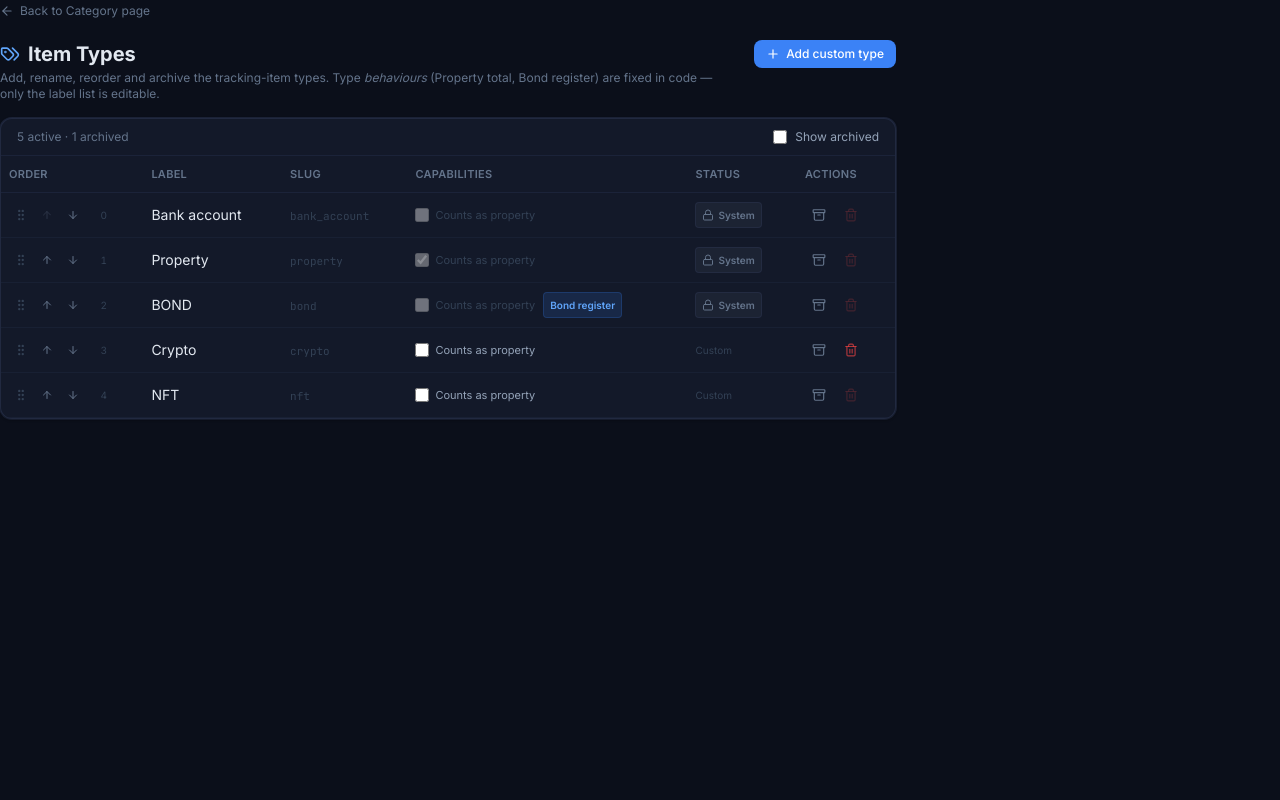
ItemTypesSettingsPage — add custom type › live-validates a duplicate label and blocks submit
Check: the button with aria-label "Edit label for Bank account" is shown, box [151,205,242,225]
Click the button "Add custom type": click(825, 54) [754,40,896,68]
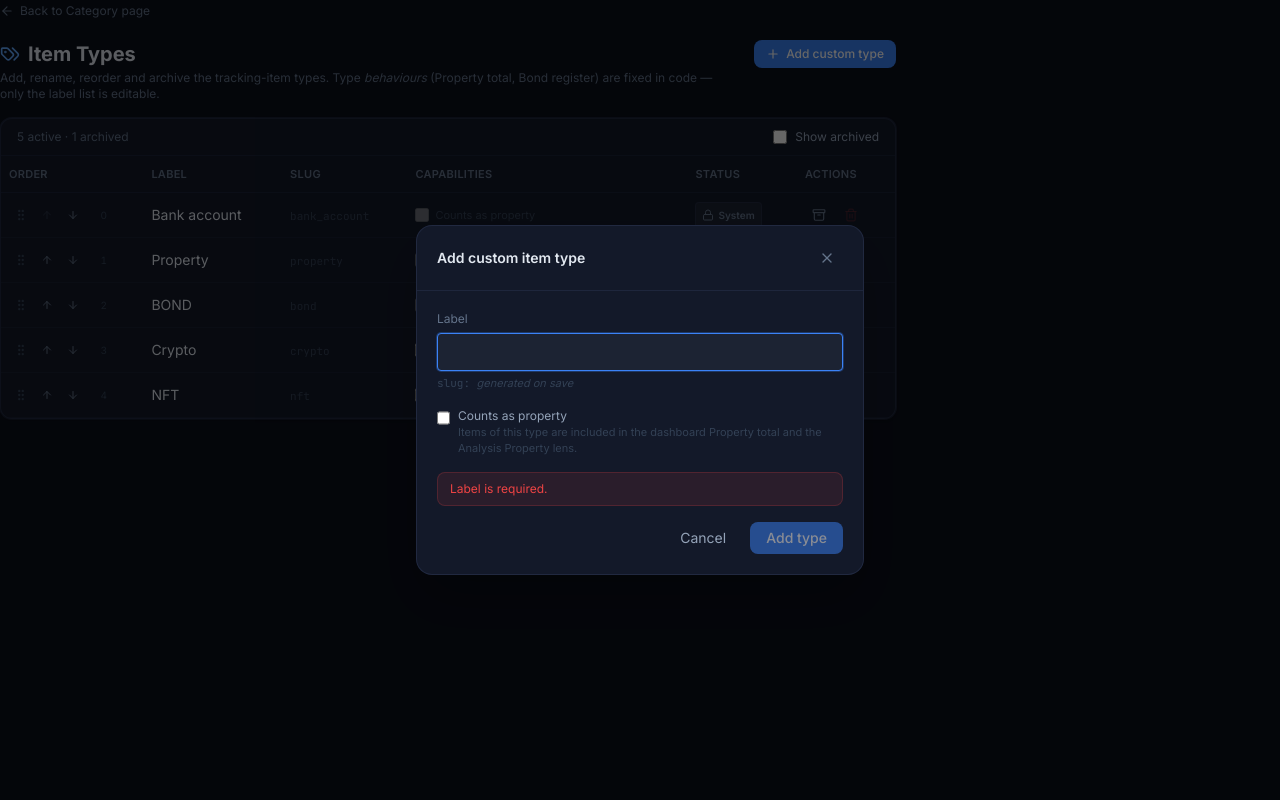
In the field labelled "Label": (640, 352) [437,333,843,371], type "property"
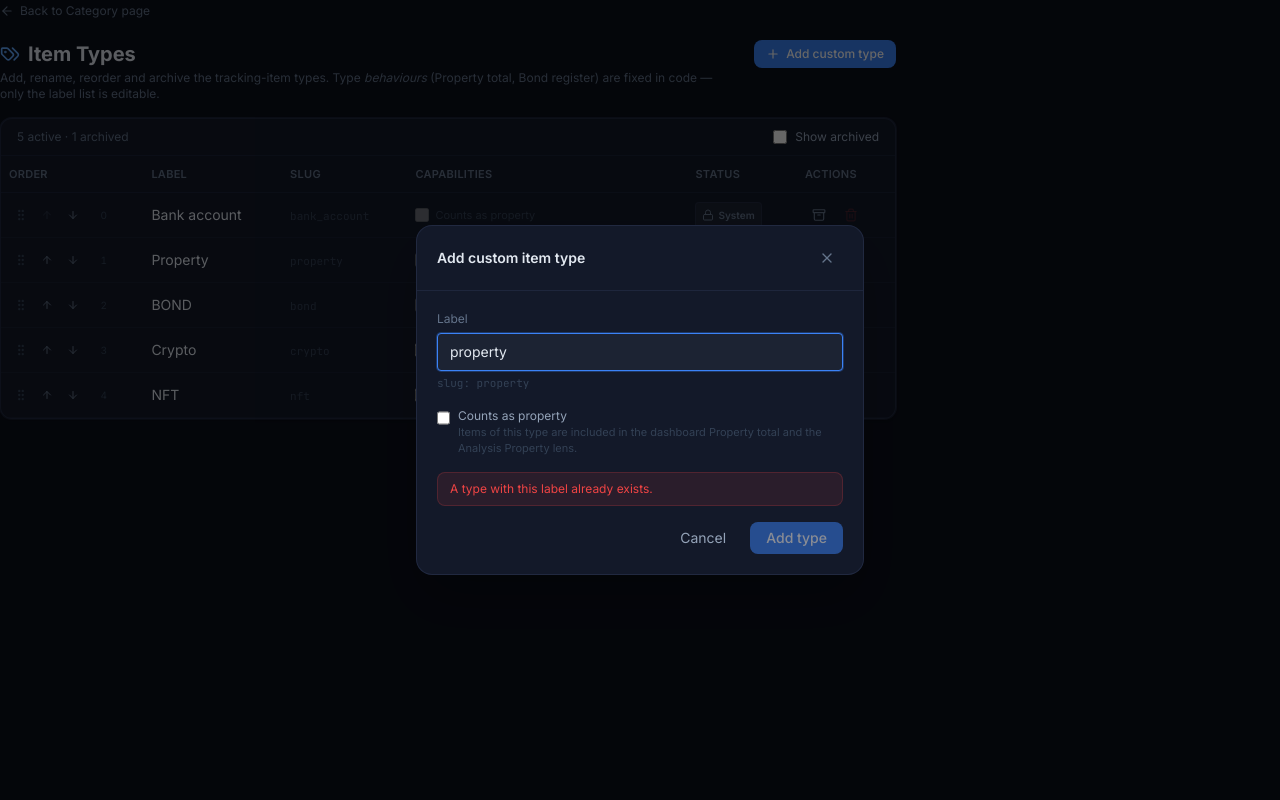
Check: the button "Add type" is disabled, box [750,522,843,554]
Check: the text "A type with this label already exists." is shown, box [437,472,843,506]
